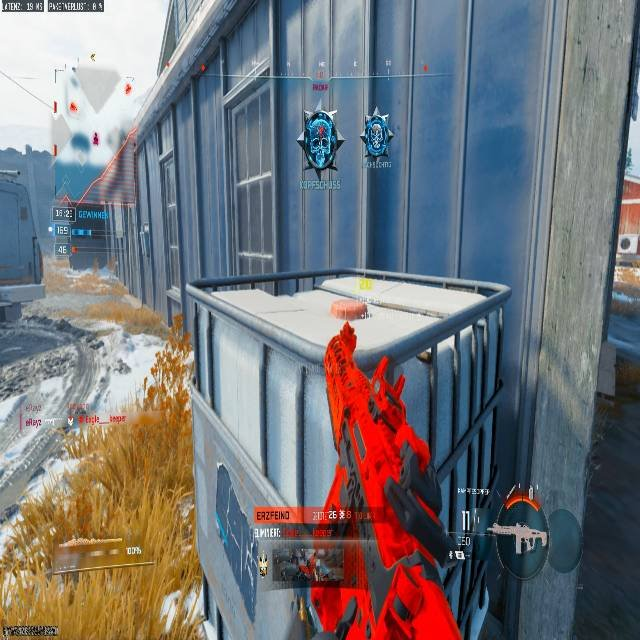player: (300, 107, 343, 177)
